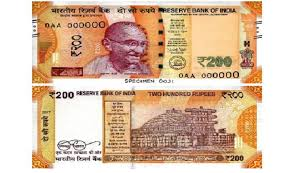twoHundred: (43, 15, 241, 70)
